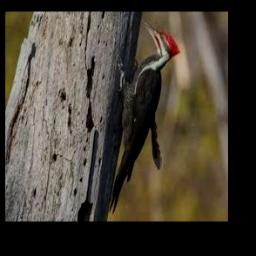Woodpecker: (108, 20, 180, 213)
